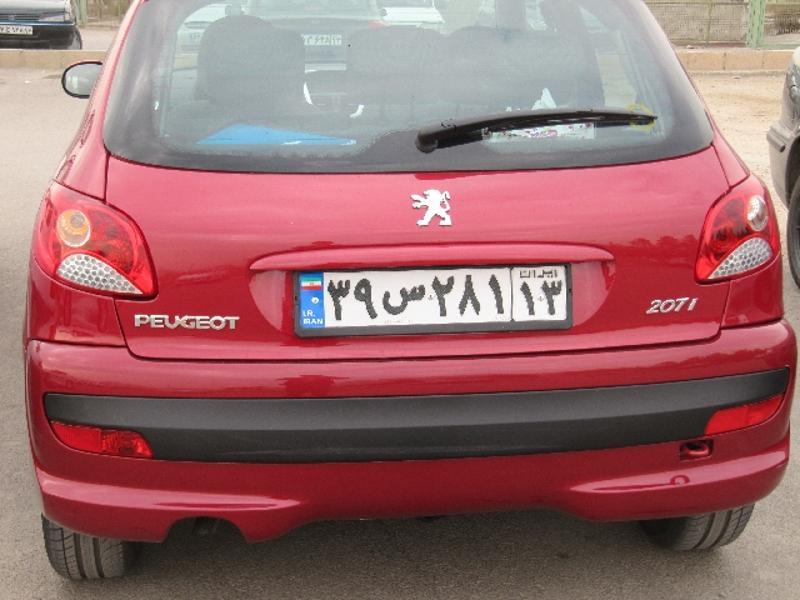Plate: (284, 259, 589, 334)
